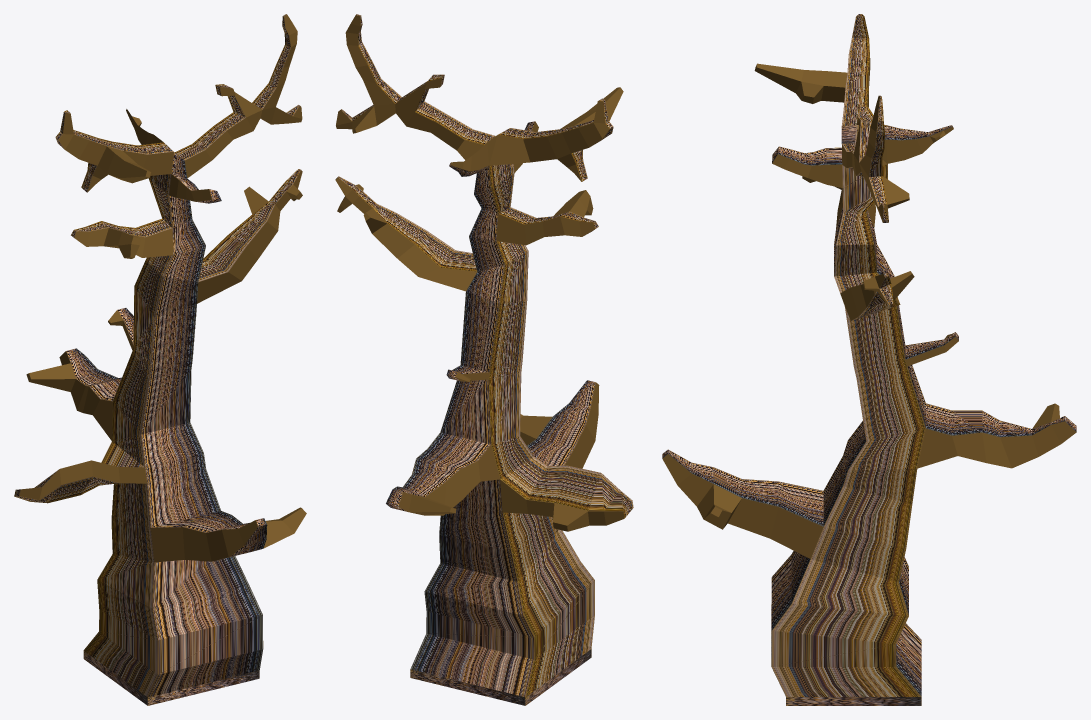
File: Tree 2 Textured.fbx
3 renders of one model, left to right at view 1: azimuth 30°, elevation 25°; view 2: azimuth 150°, elevation 25°; view 3: azimuth 270°, elevation 25°, orthographic. The views are drawn at different scales.
Parts seen in each view (by area): view 1: Box002; view 2: Box002; view 3: Box002.
Part boxes in pixels (box(x1,y1,x2,y2)): Box002: box(14, 14, 306, 705); Box002: box(335, 14, 633, 705); Box002: box(662, 14, 1076, 705).
Size of the model in its own units: 186 by 382 by 222.
Materials: 1 (1 with a texture image).
